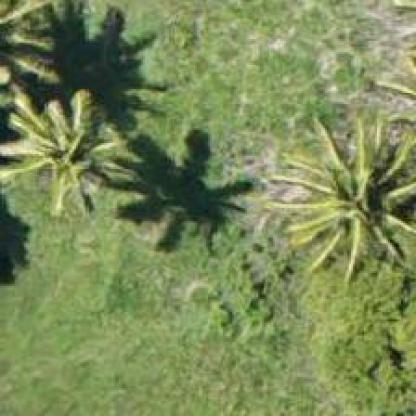coconut tree: (0, 0, 144, 221), (262, 107, 414, 285)
